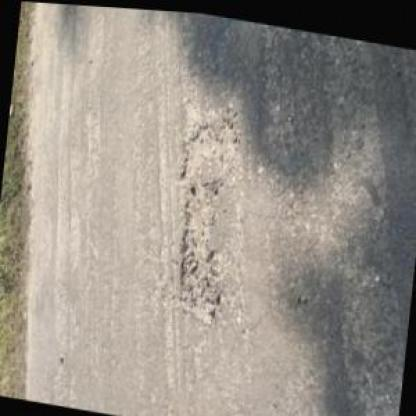pothole: (164, 112, 240, 326)
